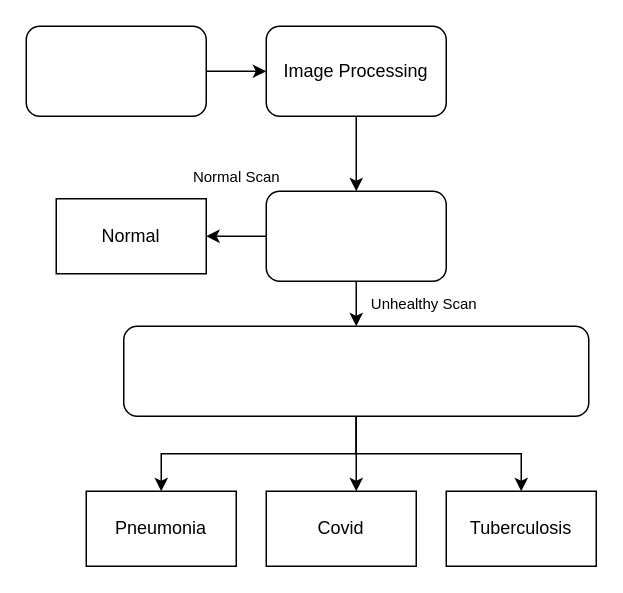
Some shapes in this 623 by 593 pixel diagram are drawn without their labels. Here are the shapes that lost their labels. From the top down, the centre of each, then its label:
At (x=115, y=70): "Chest X-Ray Input".
At (x=355, y=235): "Detection System".
At (x=355, y=370): "Classification of Lung Disease using CNN".
